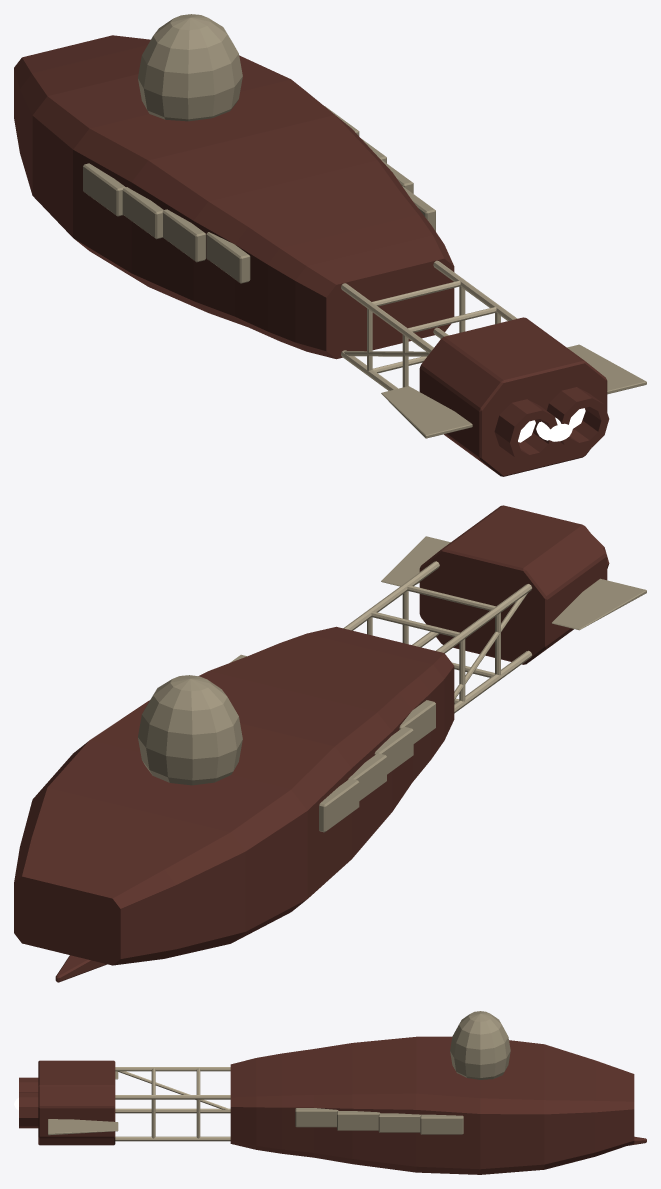
3 views of the same model, one above another, from view 1: azimuth 30°, elevation 25°; view 2: azimuth 150°, elevation 25°; view 3: azimuth 270°, elevation 25° (orthographic). The views are drawn at different scales.
Visible parts, largest first — view 1: RIMWARD_HULL; view 2: RIMWARD_HULL; view 3: RIMWARD_HULL.
Boxes of the visible parts, x1,y1,x2,y2 form: RIMWARD_HULL: [14, 14, 646, 476]; RIMWARD_HULL: [14, 505, 646, 982]; RIMWARD_HULL: [19, 1011, 646, 1174].
Bounding box in the file's own units: 1.97 × 1.66 × 7.11.
